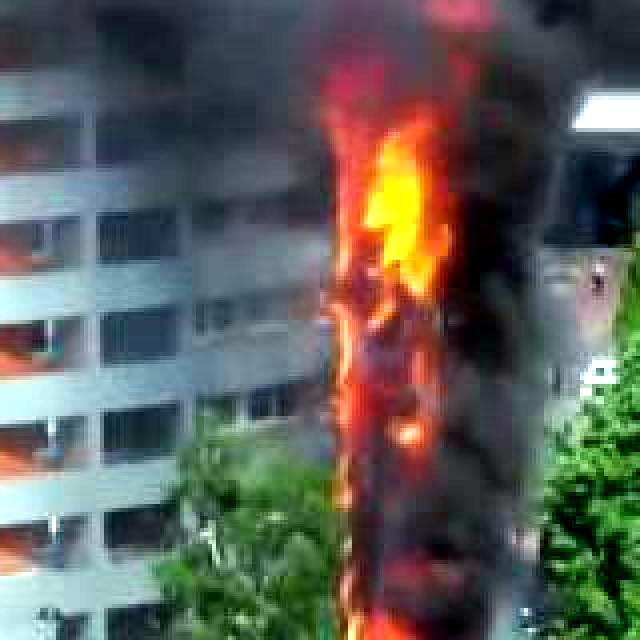smoke: (416, 0, 576, 640), (24, 0, 328, 288), (300, 428, 536, 604), (580, 0, 640, 104)
